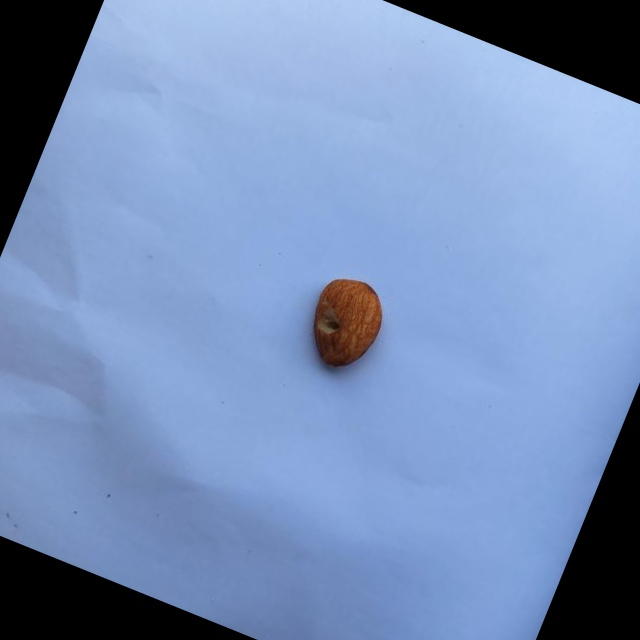grade3: (291, 264, 397, 383)
